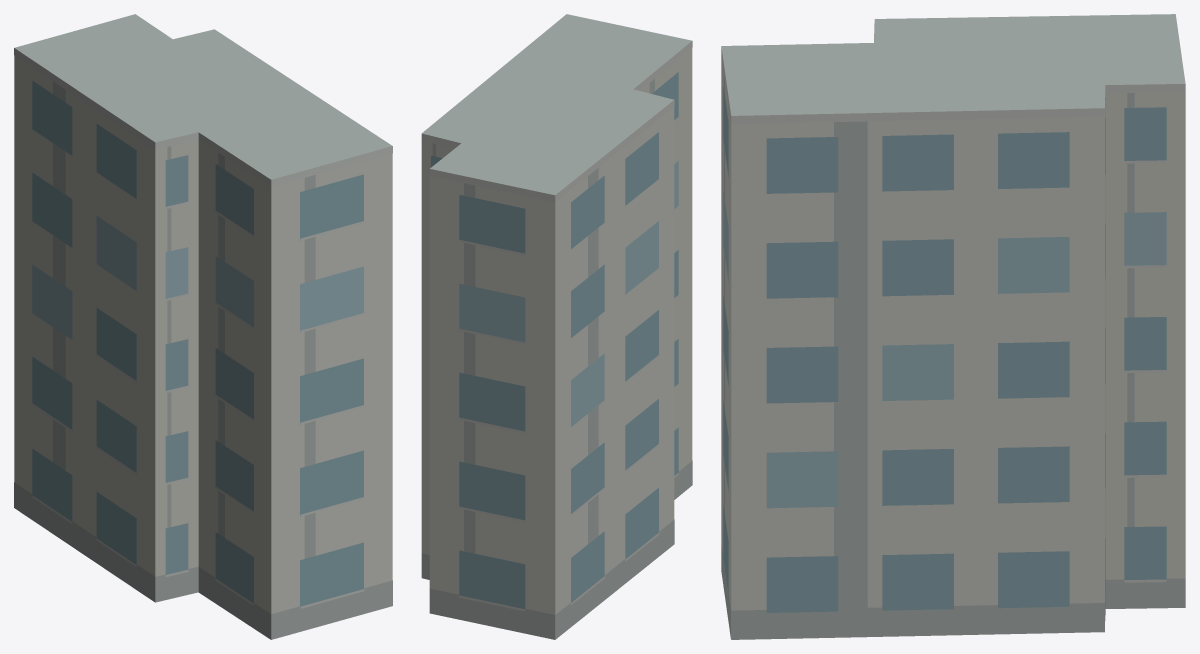
The model's file is survey-upis-32634526.glb.
3 views of the same model, side by side, from view 1: azimuth 30°, elevation 25°; view 2: azimuth 150°, elevation 25°; view 3: azimuth 270°, elevation 25° (orthographic). The views are drawn at different scales.
Parts seen in each view (by area): view 1: survey-upis-32634526.tmp; view 2: survey-upis-32634526.tmp; view 3: survey-upis-32634526.tmp.
Boxes of the visible parts, box(x1,y1,x2,y2) form: survey-upis-32634526.tmp: box(14, 14, 392, 639); survey-upis-32634526.tmp: box(421, 14, 692, 639); survey-upis-32634526.tmp: box(721, 14, 1185, 639).
Bounding box in the file's own units: 6.37 × 15.25 × 12.26.
